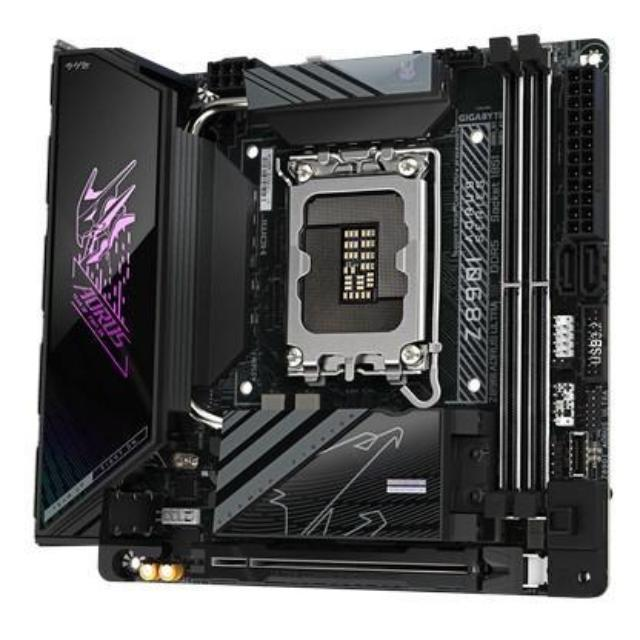Mainboard: (29, 22, 618, 604)
